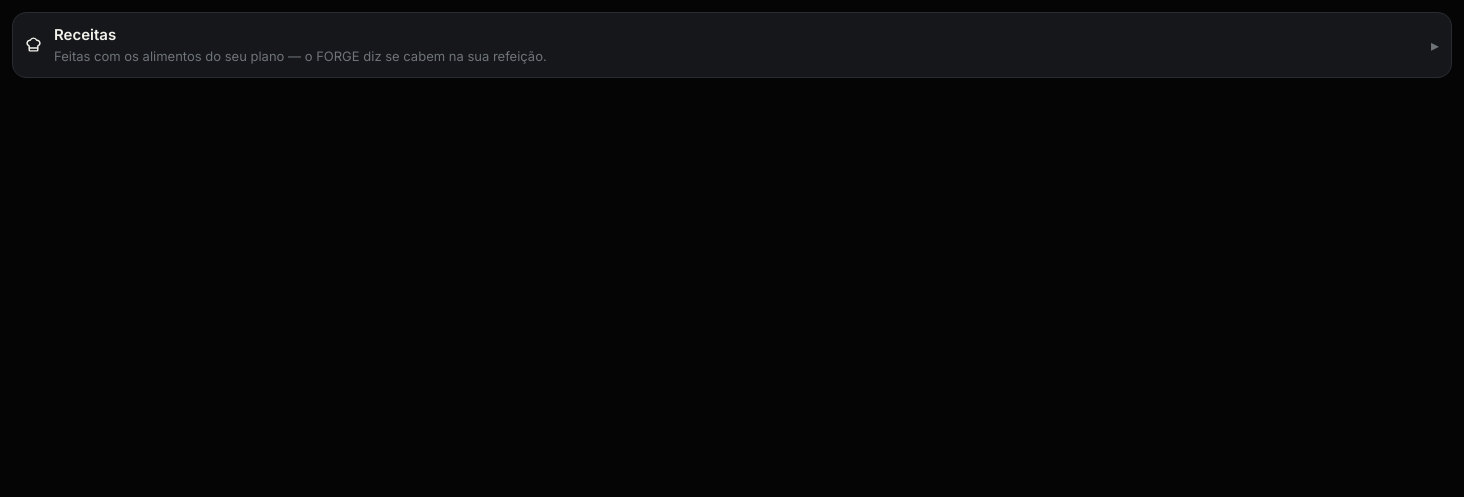
Test case: refeicao livre e aba propria, e nao filtro escondido
This screenshot has width=1464, height=497.
Click the button with test id "abrir-receitas". click: (85, 34)
box: [12,12,1452,78]
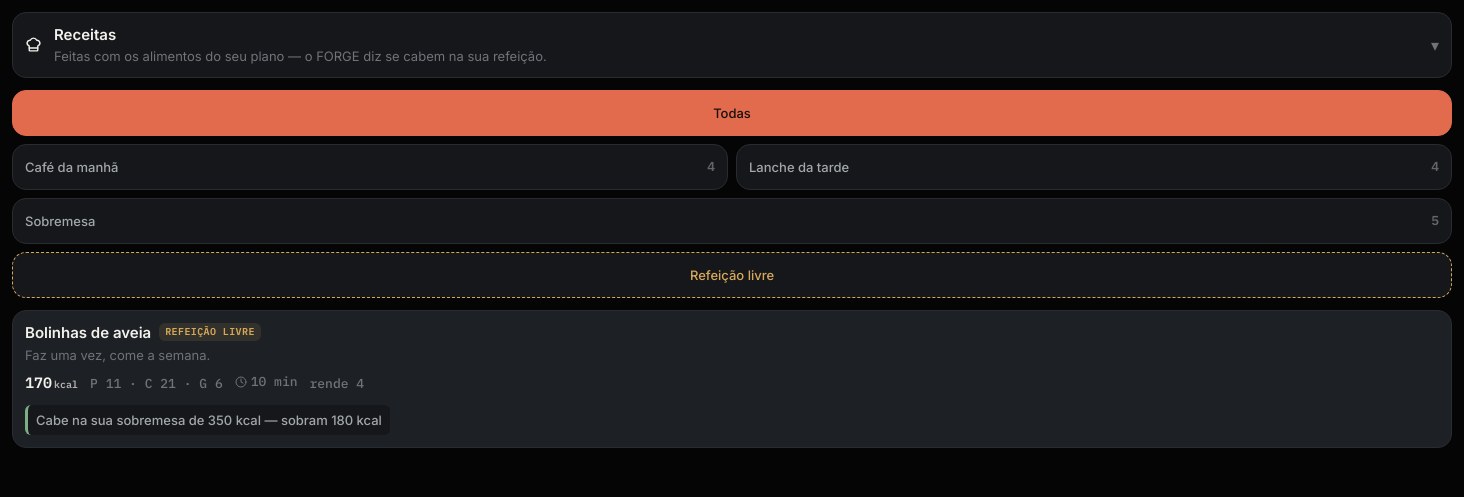
Click the tab with test id "aba-refeicao-livre". click: (732, 275)
box: [12,252,1452,298]
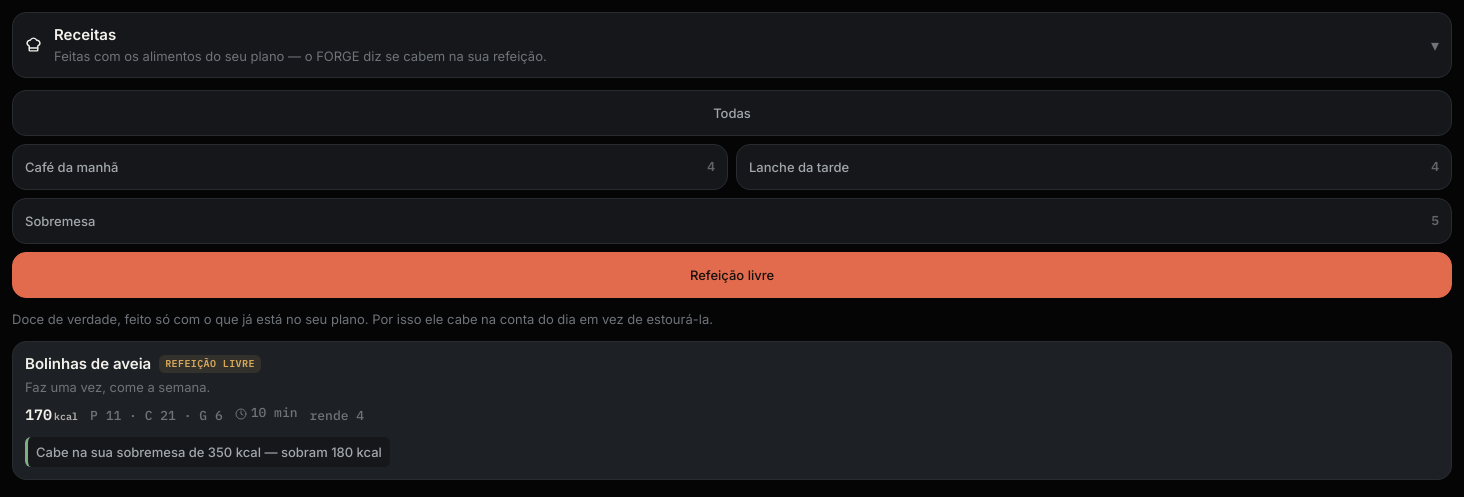
Expected: the tab with test id "aba-refeicao-livre" is selected, [12,252,1452,298]
